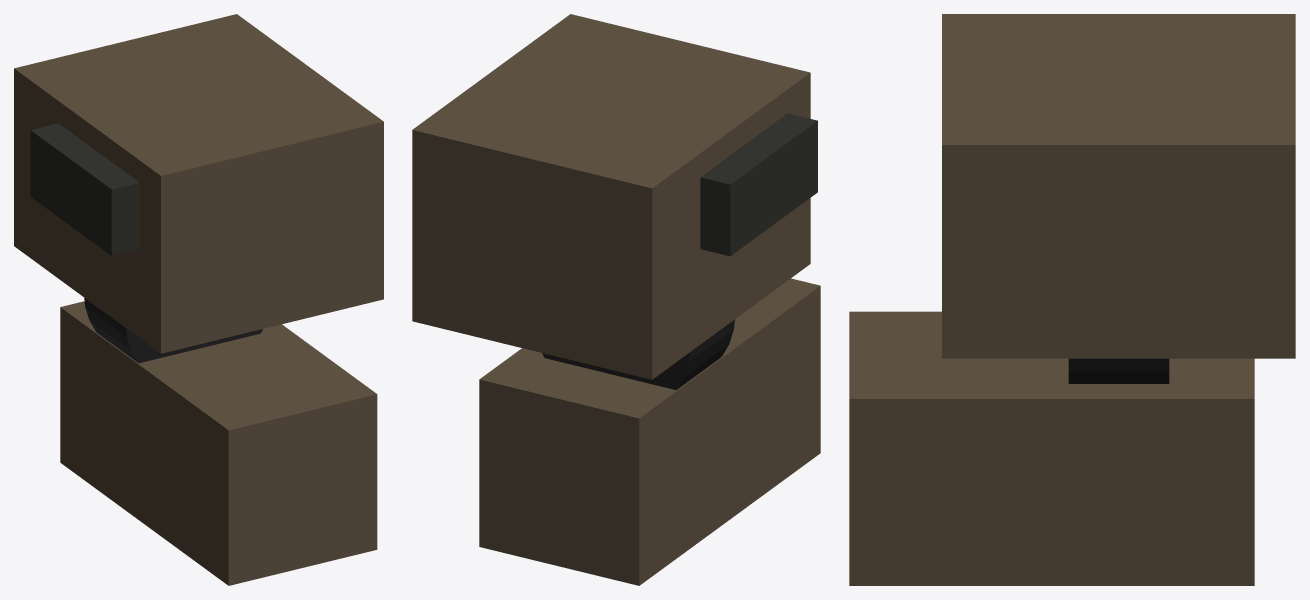
File: arm_left_iron.obj
The picture shows the model from 3 angles, left to right: view 1: azimuth 30°, elevation 25°; view 2: azimuth 150°, elevation 25°; view 3: azimuth 270°, elevation 25°; orthographic projection. The views are drawn at different scales.
Size of the model in its own units: 0.6242 by 0.924 by 0.7998.
